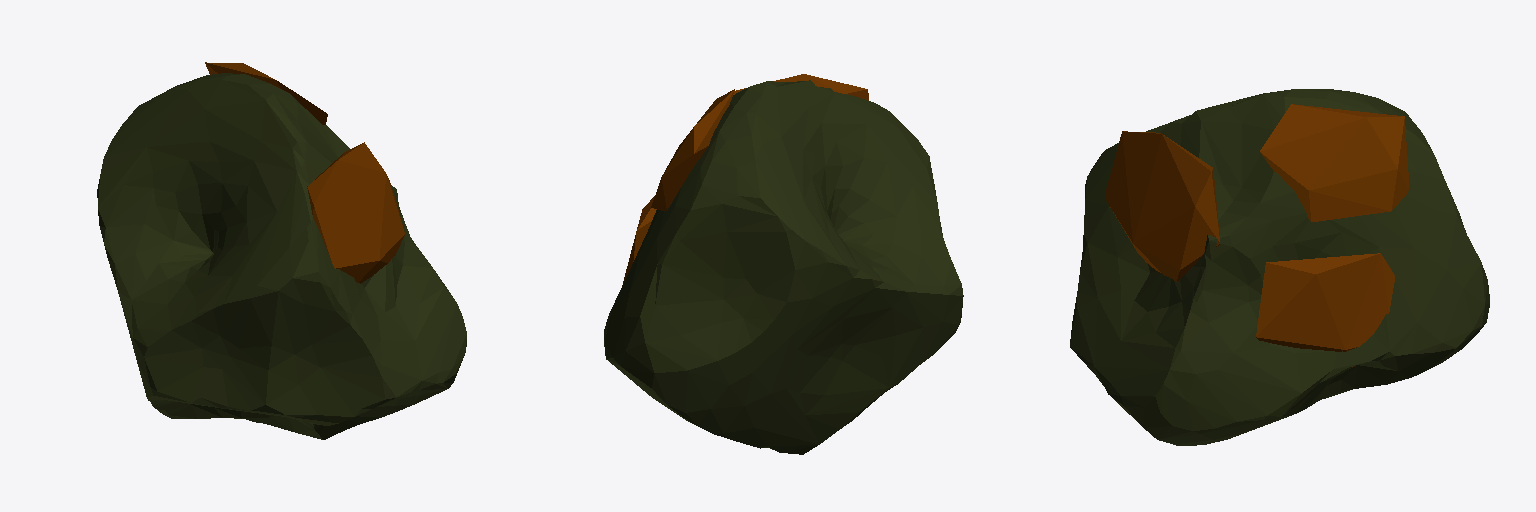
Rendered from mortar.obj.
3 renders of one model, left to right at view 1: azimuth 30°, elevation 25°; view 2: azimuth 150°, elevation 25°; view 3: azimuth 270°, elevation 25°, orthographic.
Parts seen in each view (by area): view 1: Cube_Cube.002, Cube.003_Cube.008, Cube.002_Cube.007; view 2: Cube_Cube.002, Cube.002_Cube.007, Cube.003_Cube.008, Cube.001_Cube.003; view 3: Cube_Cube.002, Cube.002_Cube.007, Cube.003_Cube.008, Cube.001_Cube.003.
Boxes of the visible parts, <box> form: Cube_Cube.002: <box>97,73,466,439</box>; Cube.003_Cube.008: <box>307,142,404,283</box>; Cube.002_Cube.007: <box>205,62,327,124</box>; Cube_Cube.002: <box>604,80,963,454</box>; Cube.002_Cube.007: <box>651,89,734,210</box>; Cube.003_Cube.008: <box>733,74,868,100</box>; Cube.001_Cube.003: <box>622,196,656,285</box>; Cube_Cube.002: <box>1070,89,1489,445</box>; Cube.002_Cube.007: <box>1260,104,1408,221</box>; Cube.003_Cube.008: <box>1105,131,1219,281</box>; Cube.001_Cube.003: <box>1256,253,1394,367</box>.
Bounding box in the file's own units: 2.23 × 2.31 × 2.64.